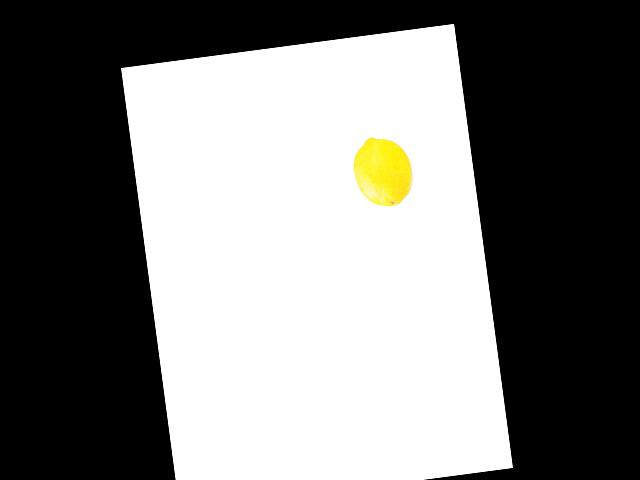lemon: (347, 131, 417, 211)
